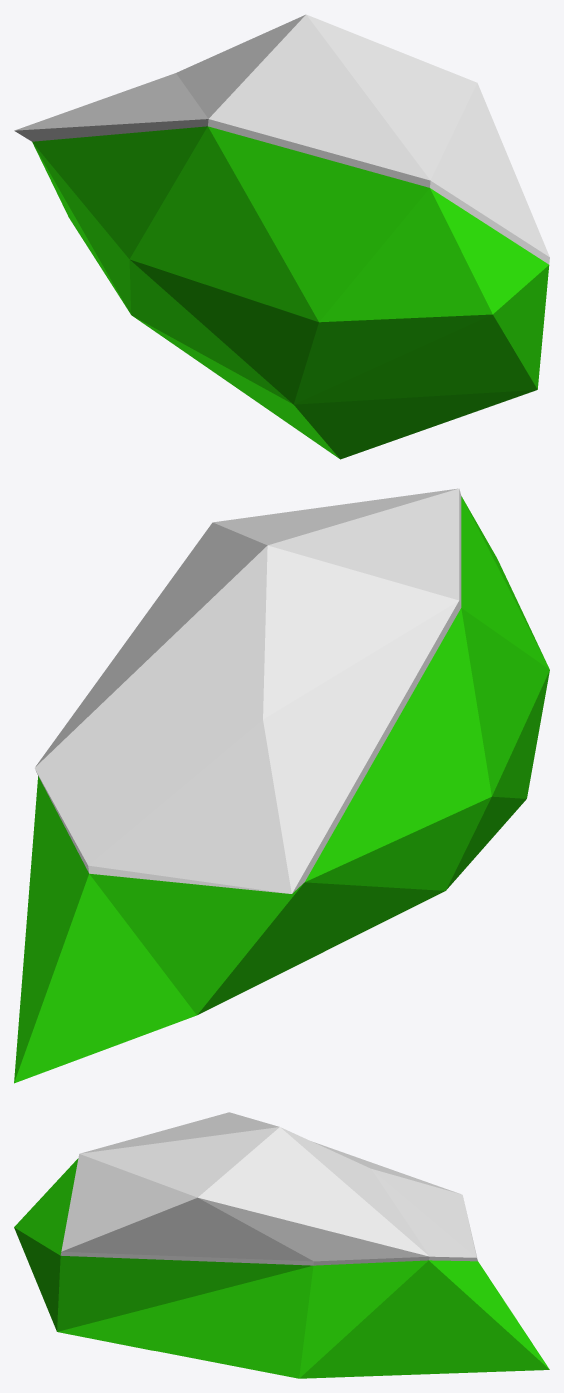
The model's file is Bush#1_Snow.fbx.
The picture shows the model from 3 angles, top to bottom: view 1: azimuth 30°, elevation 25°; view 2: azimuth 150°, elevation 25°; view 3: azimuth 270°, elevation 25°; orthographic projection. The views are drawn at different scales.
Visible parts, largest first — view 1: Bush#1_Snow; view 2: Bush#1_Snow; view 3: Bush#1_Snow.
Part boxes in pixels (<box>): Bush#1_Snow: <box>14,14,549,459</box>; Bush#1_Snow: <box>14,488,549,1083</box>; Bush#1_Snow: <box>14,1112,549,1378</box>.
Size of the model in its own units: 156 by 160 by 317.
